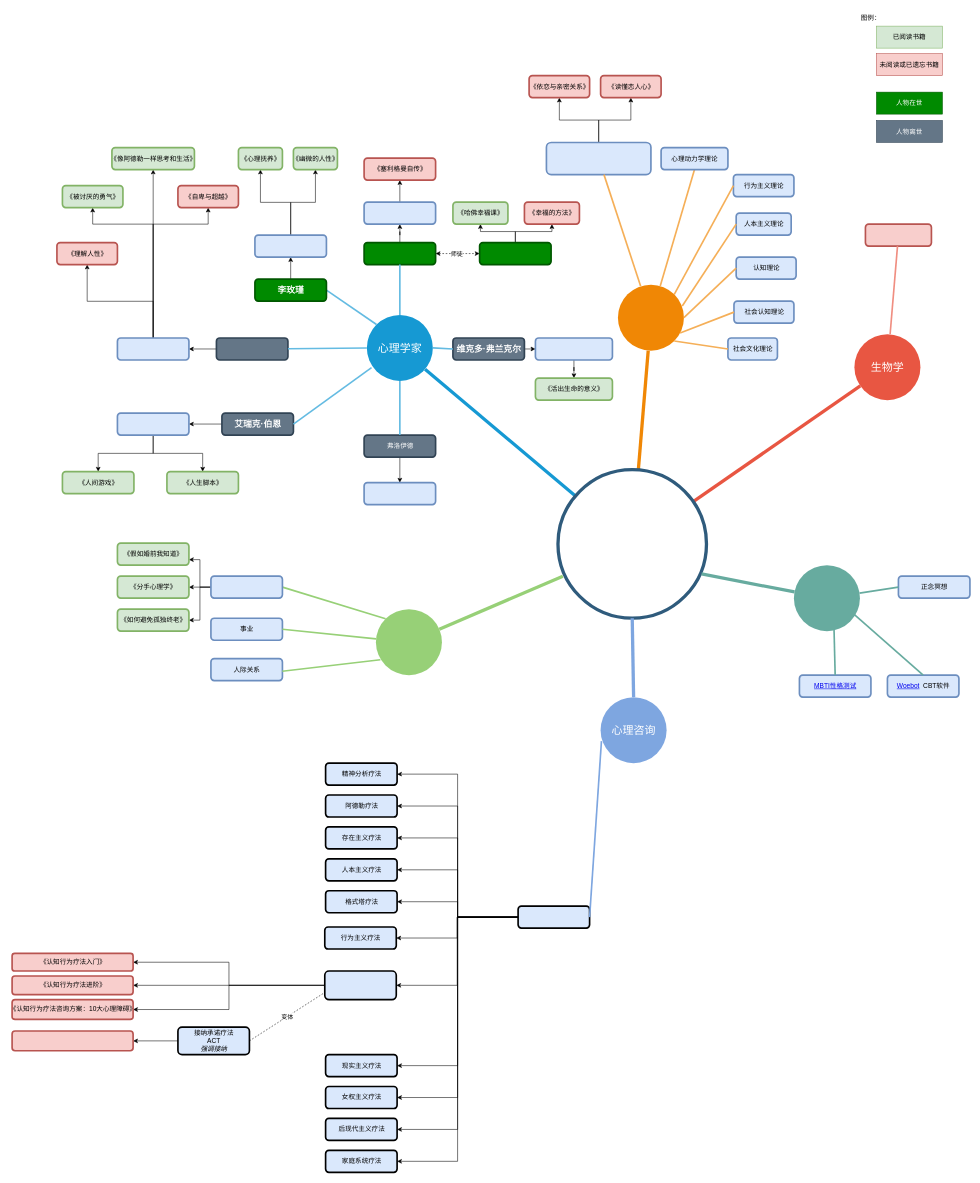
This 980x1183 diagram has some shape labels left out. The centre of each missing label's shape, as x and y in pixels:
《ACT就这么简单： 接纳承诺疗法简明操作手册》: point (72, 1040)
《认知神经科学》: point (898, 235)
个体心理学：目的论 维也纳第二心理学派: point (152, 349)
依恋理论： 焦虑型、回避型、安全型: point (598, 158)
婚恋: point (246, 587)
工具: point (827, 598)
应用类: point (409, 642)
心理分析：原因论 维也纳第一心理学派: point (399, 493)
心理咨询中的各种疗法: point (553, 917)
心理学: point (632, 544)
心理学理论: point (651, 317)
意义疗法与存在注意分析 维也纳第三心理学派: point (573, 349)
沟通分析：结构、游戏: point (152, 424)
泰勒·本·沙哈尔: point (515, 253)
犯罪心理学: point (290, 246)
积极心理学: point (399, 213)
认知行为疗法 CBT 强调认知重构: point (360, 985)
阿德勒: point (251, 349)
马丁·塞利格曼: point (399, 253)
